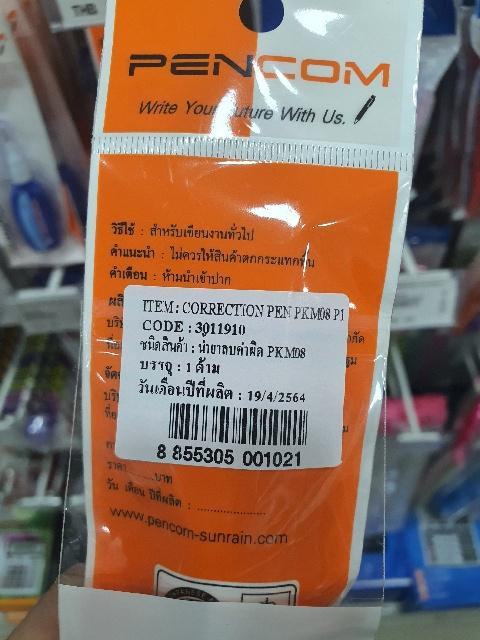Barcode: (147, 397, 317, 469)
